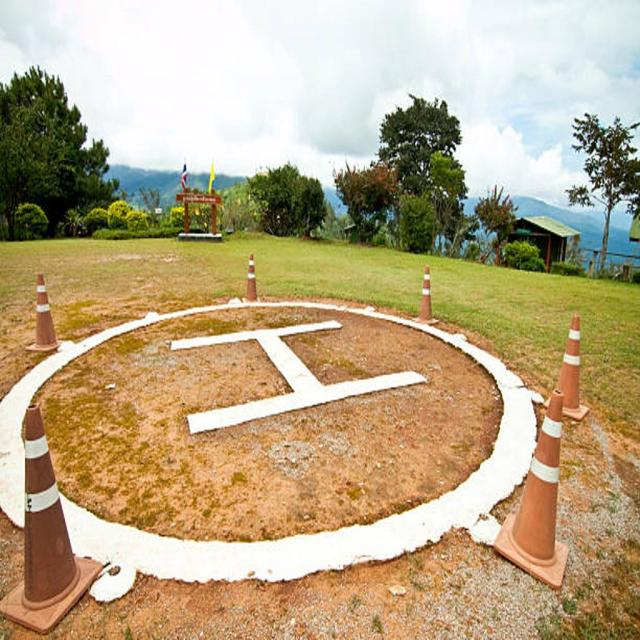helipad: (0, 299, 536, 585)
